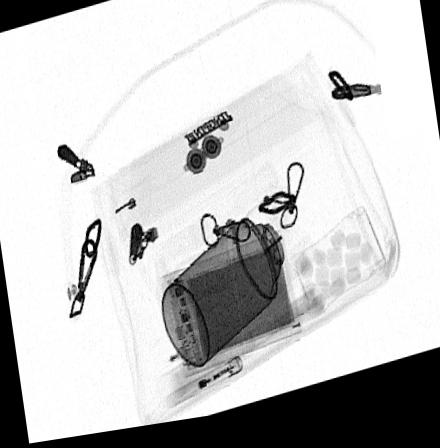Lighter: (166, 362, 241, 413)
Powerbank: (158, 241, 299, 385)
Sprayer: (161, 203, 311, 374)
